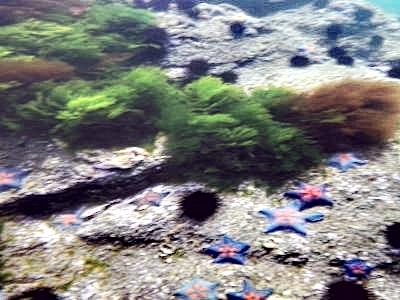urchin: (183, 187, 214, 217), (187, 55, 211, 78), (331, 280, 367, 295), (290, 53, 309, 66), (221, 69, 235, 79)
